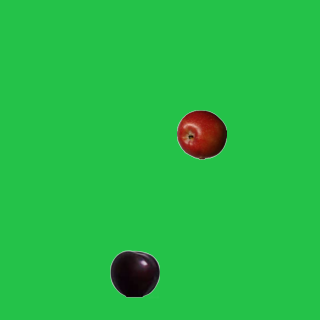Apple Braeburn: (176, 109, 226, 159)
Cherry Wax Black: (109, 248, 159, 298)
